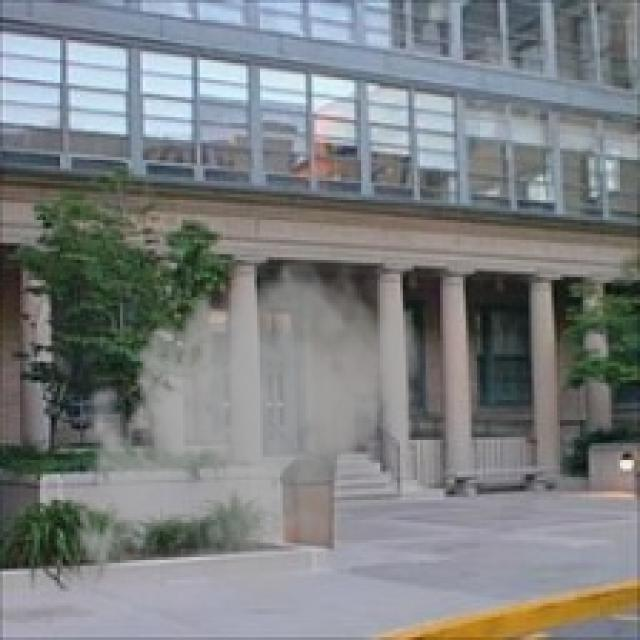smoke: (63, 246, 431, 614)
